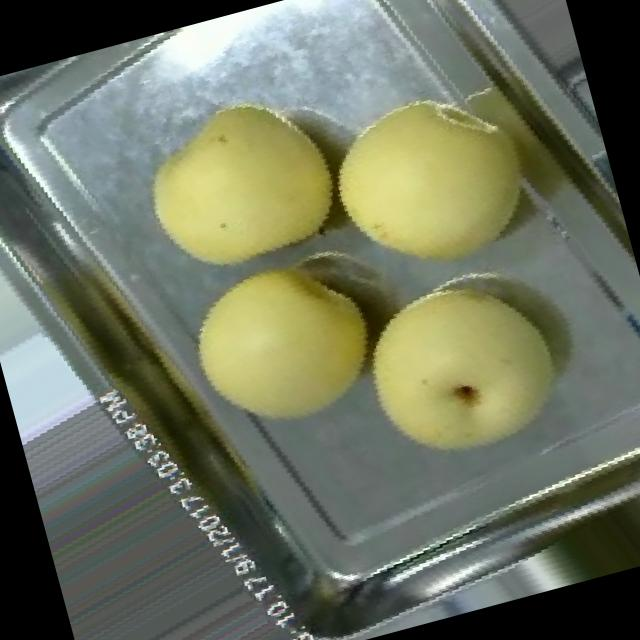Fruit: (284, 38, 574, 324), (320, 230, 605, 506), (107, 53, 380, 314), (150, 223, 414, 468)
